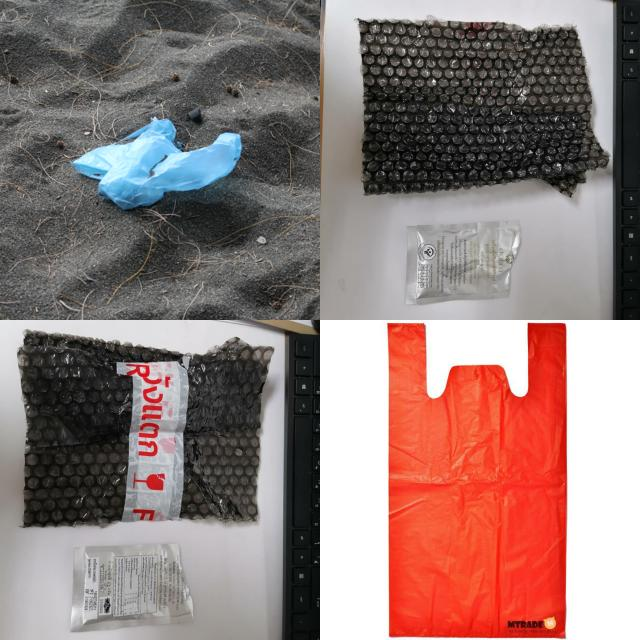Single-layer Plastic: (388, 324, 566, 636), (18, 330, 274, 526), (359, 18, 609, 195), (72, 118, 241, 210)
